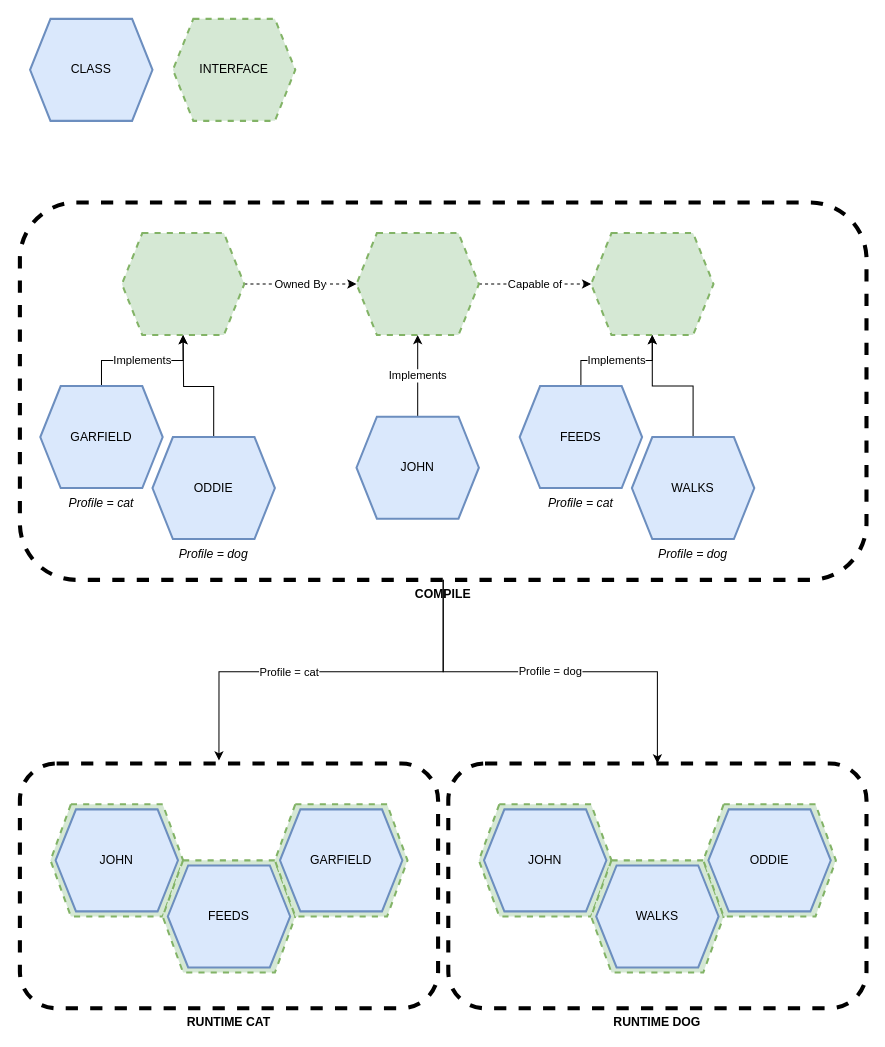
Image size: 885x1047. Some labels were removed from this diagram. The shapes that lost their labels are listed below. From the top down, each one's centre as x and y in pixels, then its label:
the point at 182,284: PET
the point at 417,284: MASTER
the point at 652,284: ACTION
